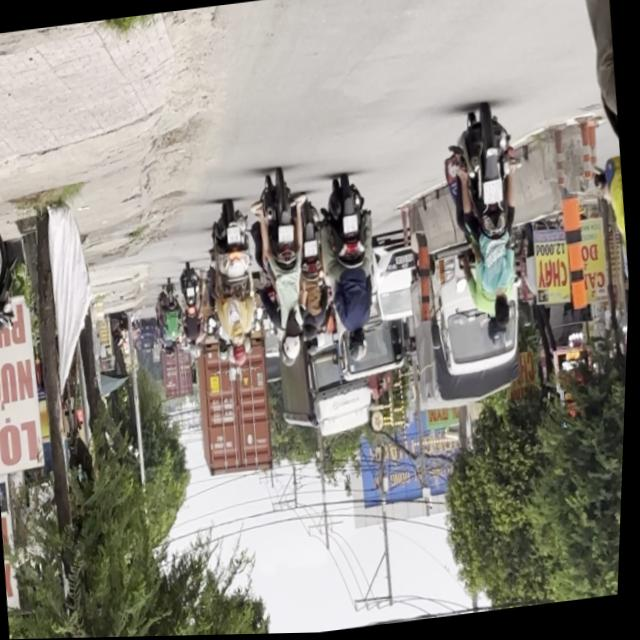helmet: (348, 328, 370, 364), (283, 332, 305, 364), (487, 320, 508, 350)
licenseplate: (435, 104, 539, 355), (314, 173, 391, 368), (245, 168, 318, 371)
motorcyclist: (494, 294, 515, 330)
nohelmet: (483, 181, 504, 205), (278, 224, 296, 245), (343, 215, 360, 235)
